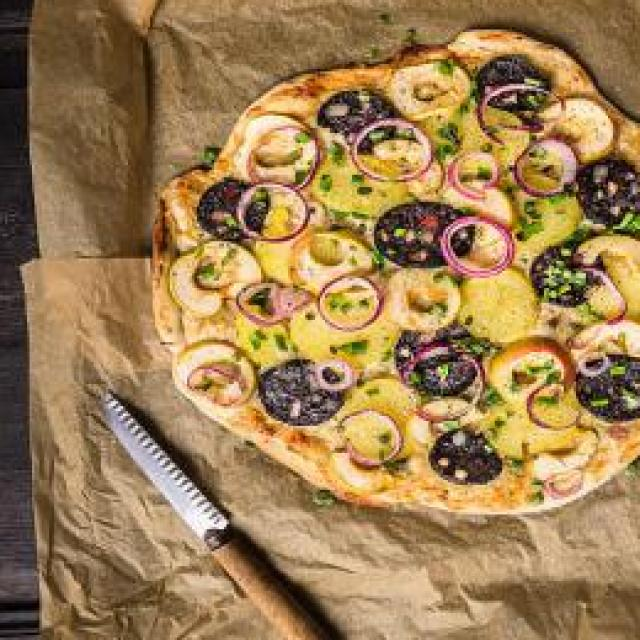knife: (88, 401, 340, 640)
